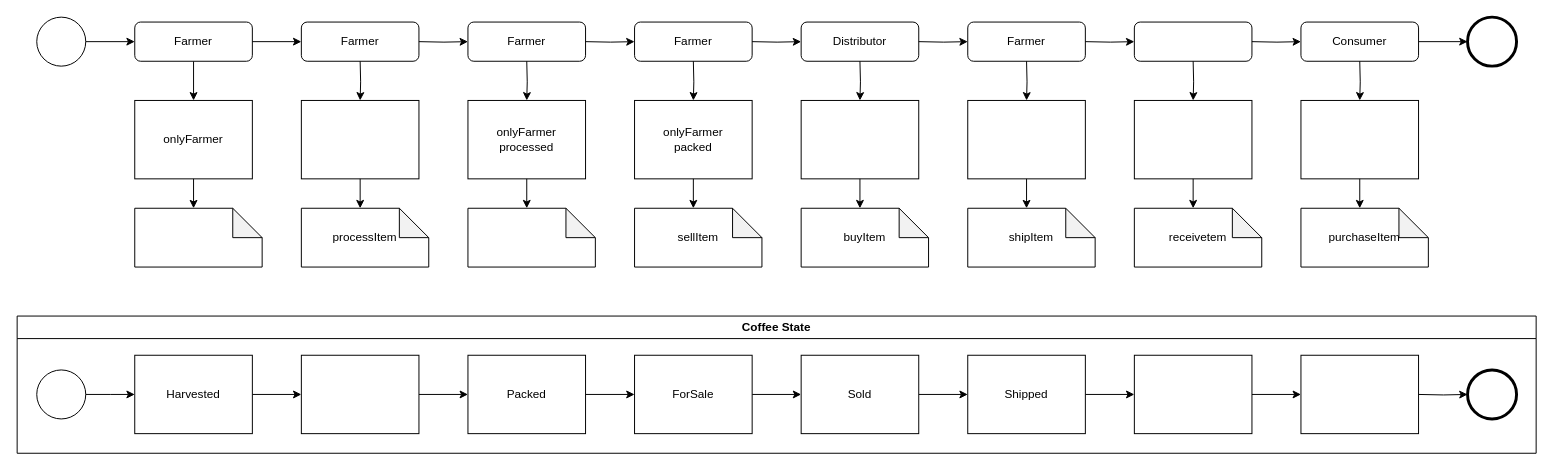
The diagram is 1553 pixels wide and 470 high, and some of its shapes have lost their labels. The shapes that lost their labels are listed below. From the top down, each one's centre as x and y in pixels, then its label:
At point 1192,41: "Retailer".
At point 359,139: "onlyFarmer harvested".
At point 859,139: "onlyDistributor forSale".
At point 1026,139: "onlyFarmer sold".
At point 1192,139: "onlyRetailer shipped".
At point 1359,139: "onlyConsumer received".
At point 198,237: "harvestItem".
At point 531,237: "packItem".
At point 359,394: "Processed".
At point 1192,394: "Received".
At point 1359,394: "Purchased".
